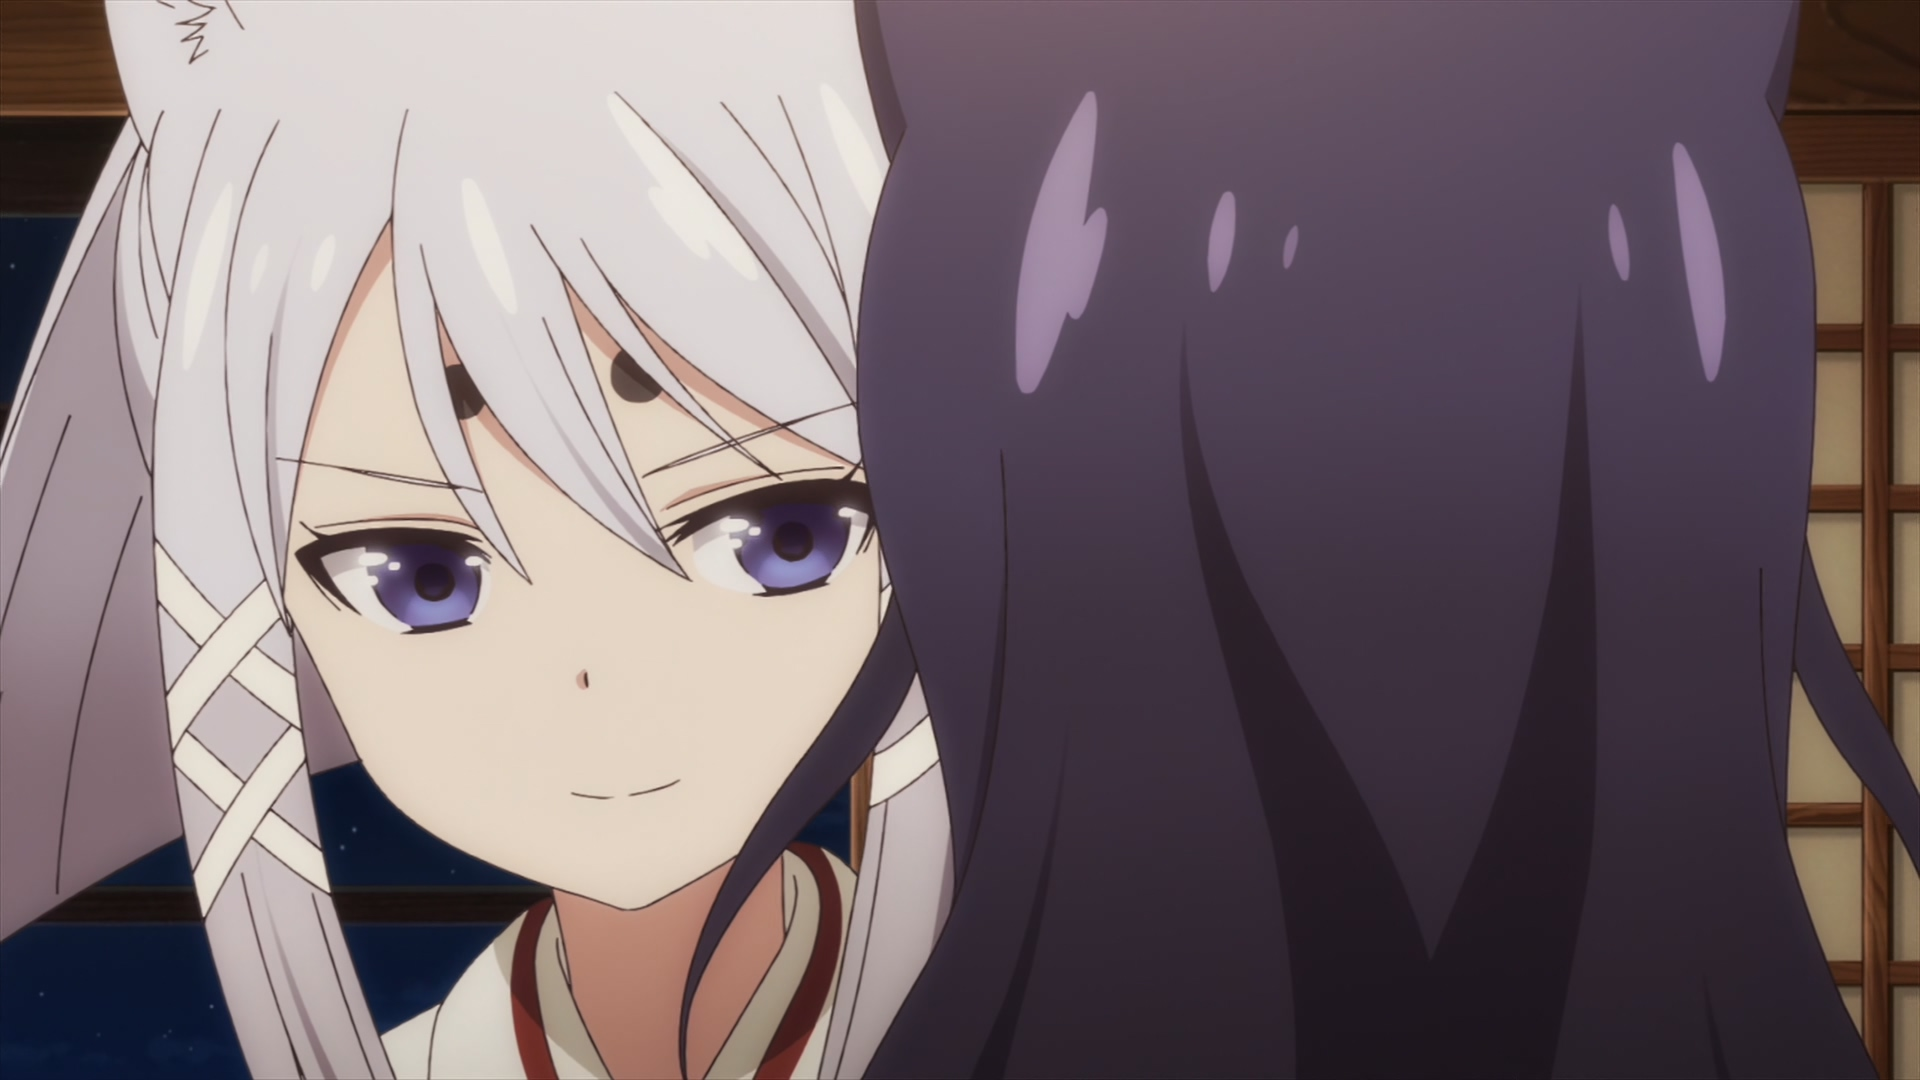柊: (1, 1, 949, 1080)
皋: (678, 1, 1920, 1080)
